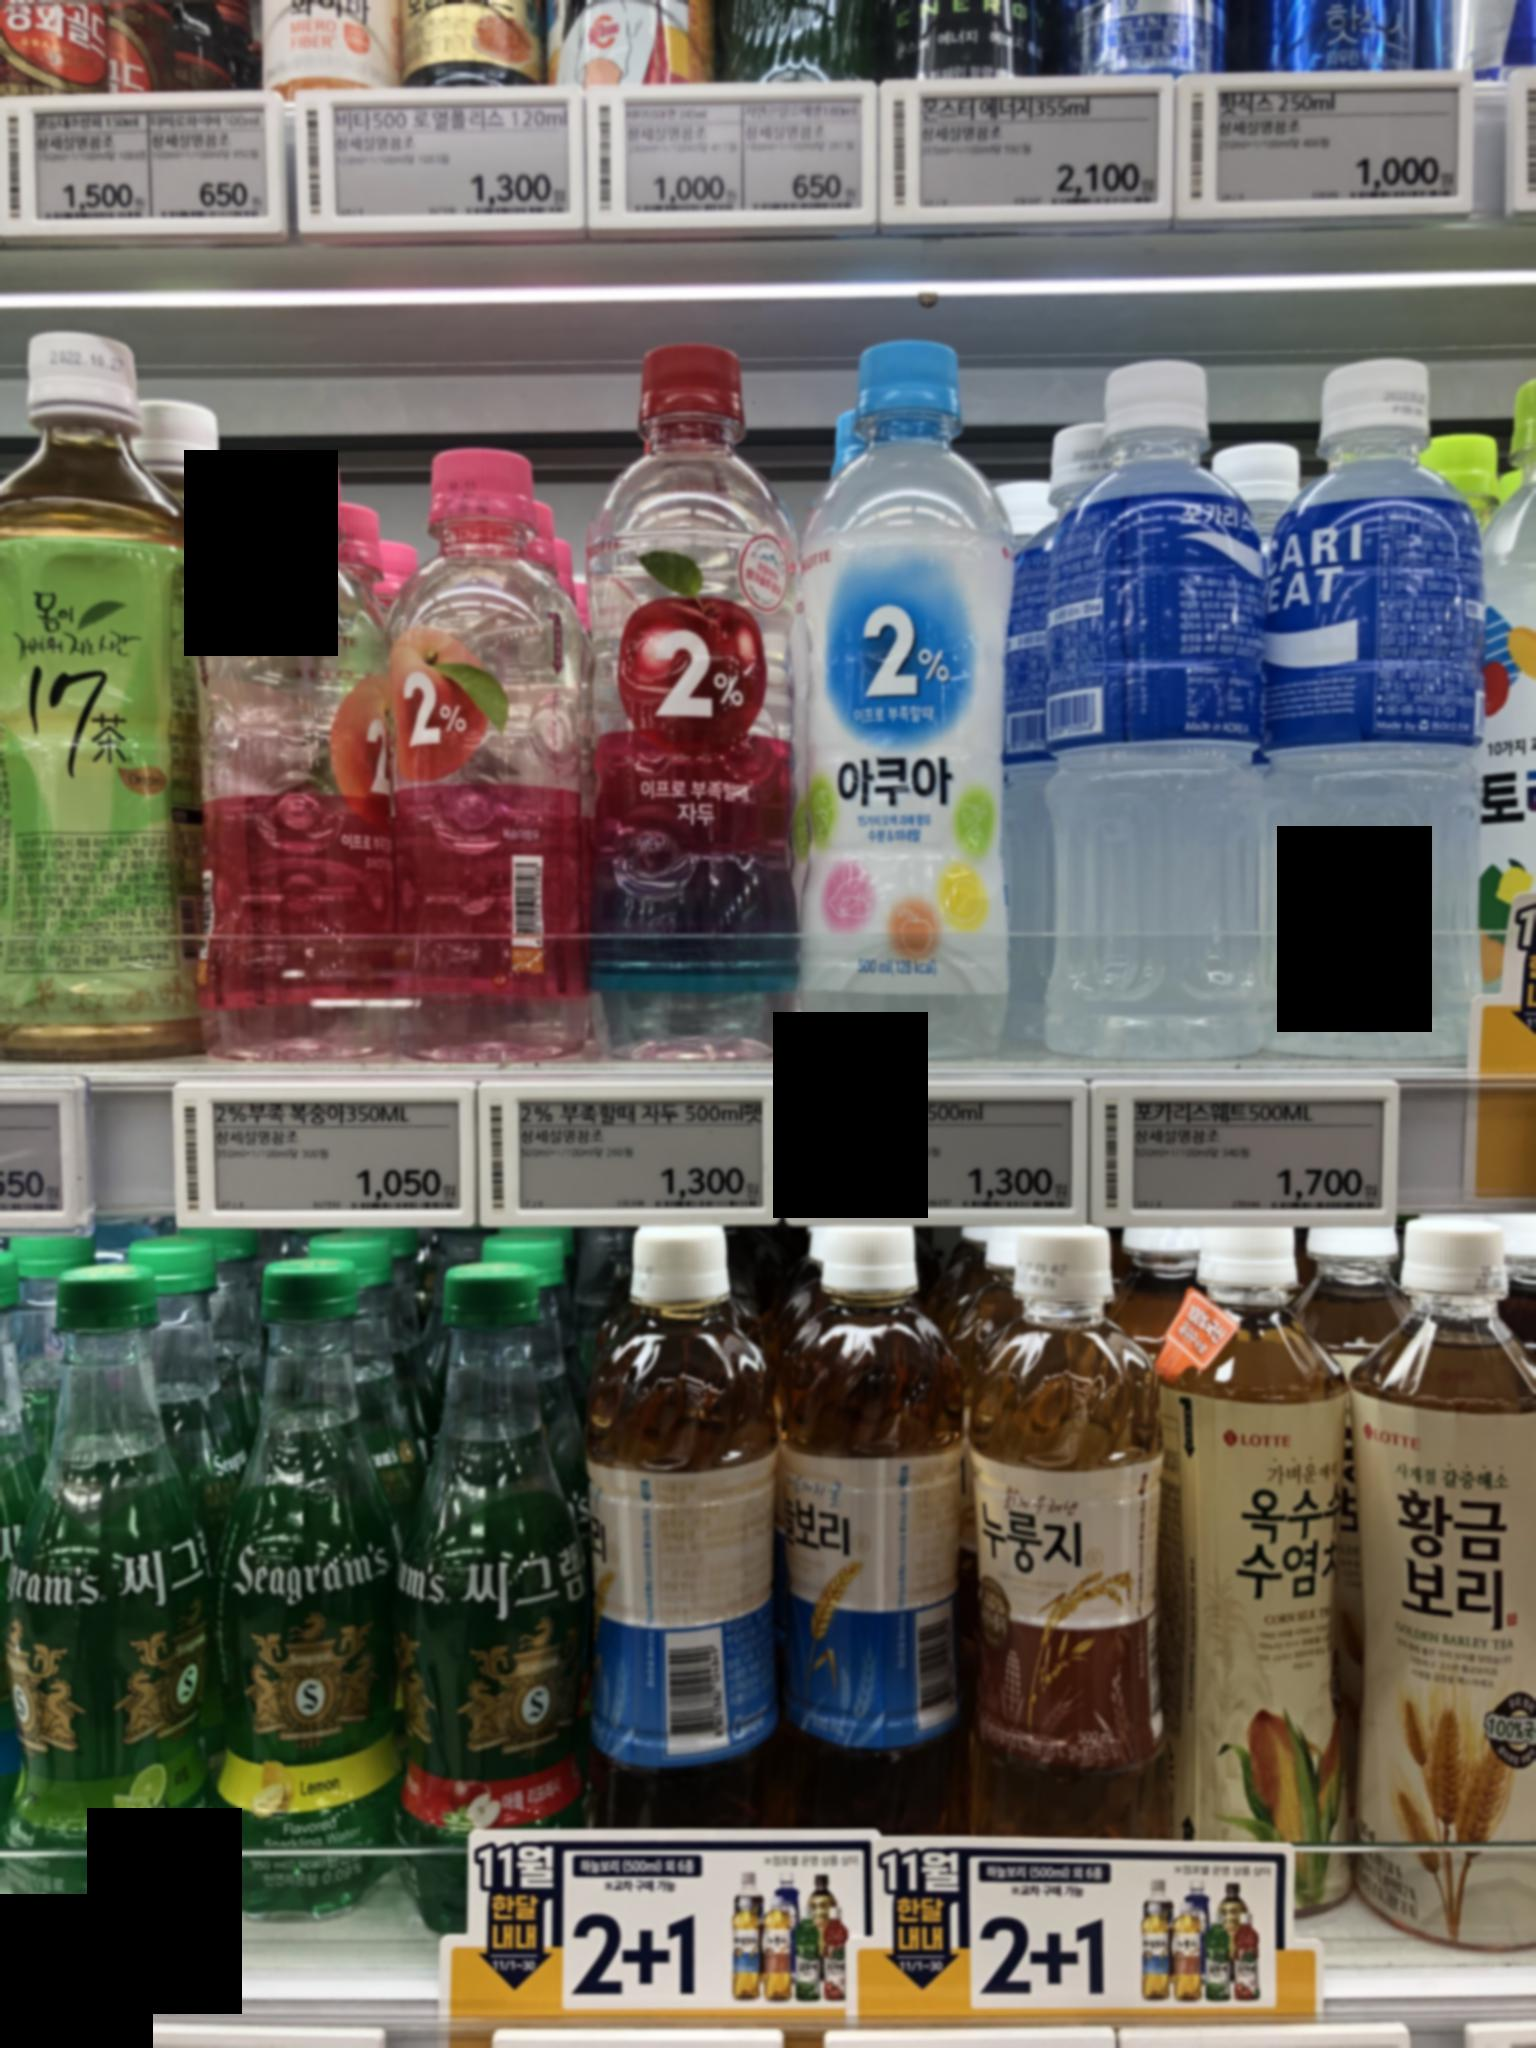haneulbori: (591, 1203, 773, 1827), (789, 1203, 963, 1827)
pocarisweat: (1033, 355, 1267, 1071), (1267, 340, 1481, 1059)
